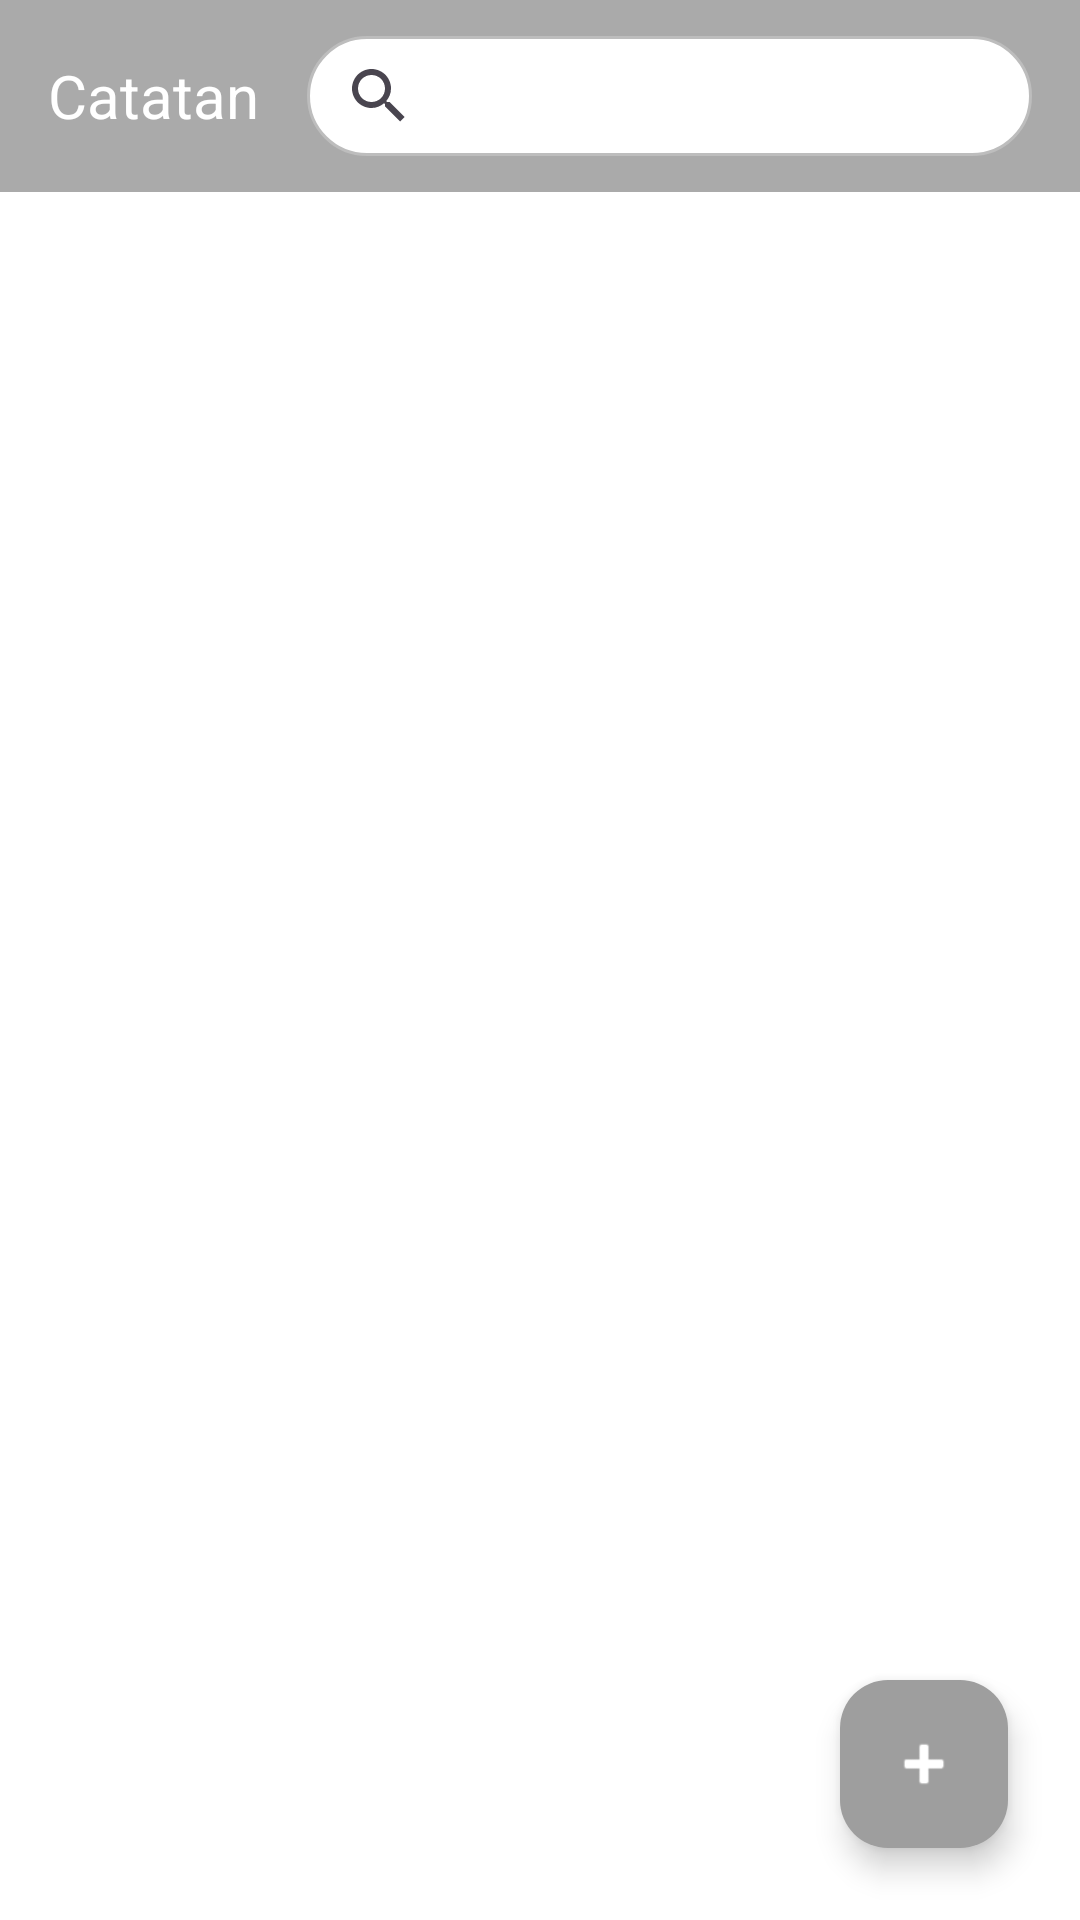

Icon bounding boxes for this 1080w x 1920h phone screenshot, format (x1, y1, x2, y2):
Tambah Catatan: (840, 1680, 1008, 1848)
